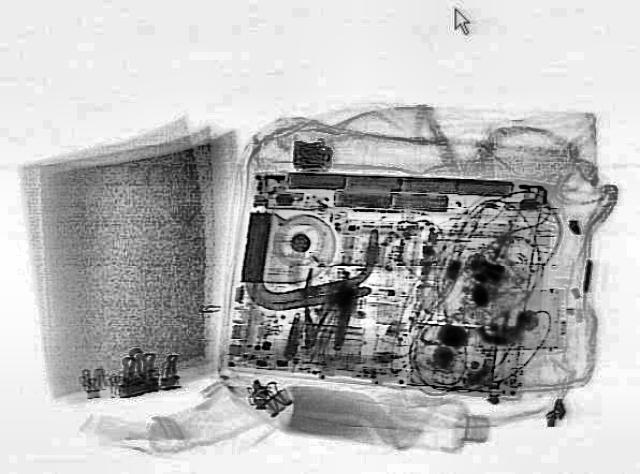Pliers: (286, 265, 350, 349)
